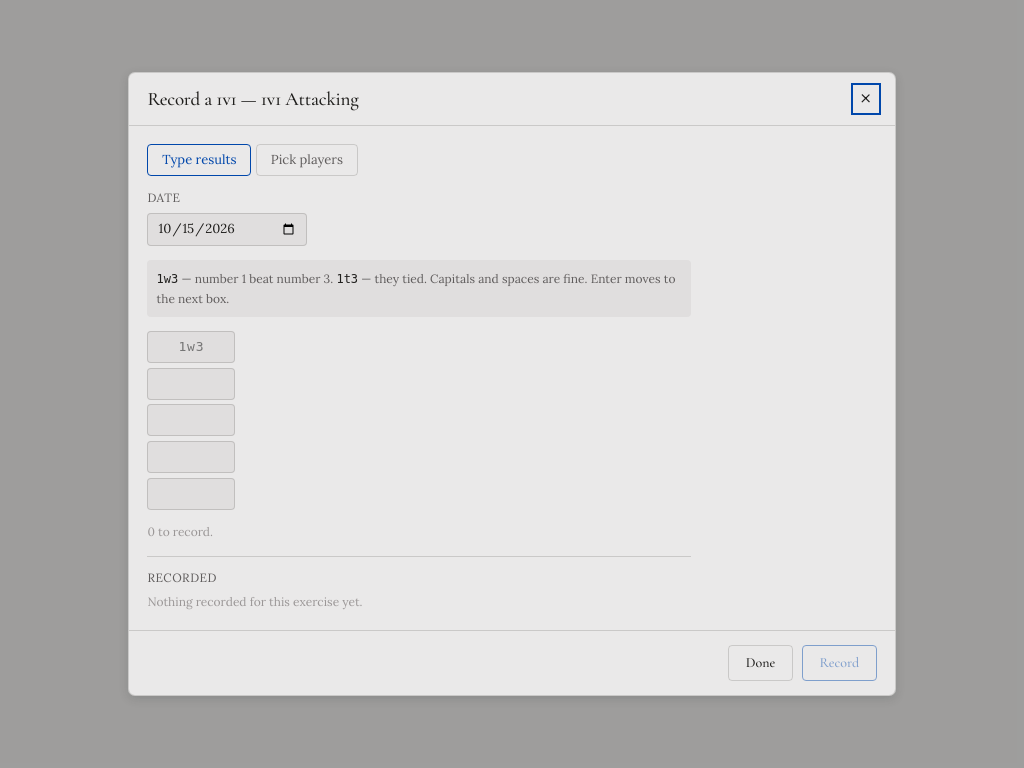
Test: the picker: choosing the pairing › will not record until both players and an outcome are chosen
Click the button "Pick players": (307, 160) [256, 144, 358, 176]
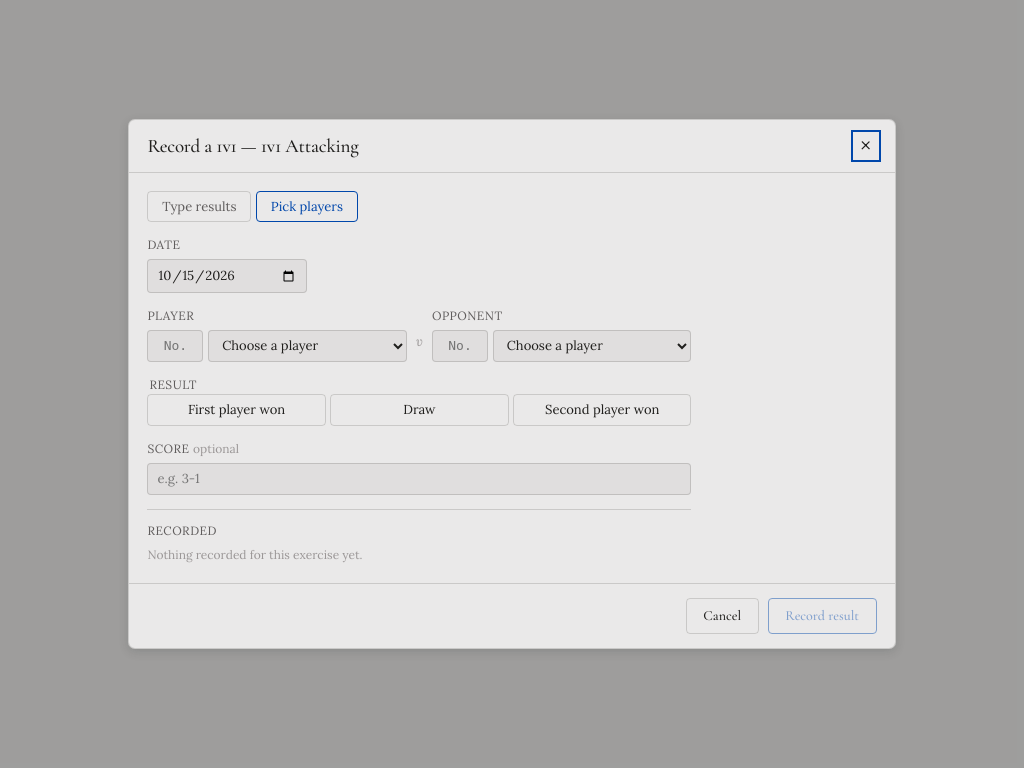
expect the button "Record result" is disabled: met, box [768, 598, 877, 634]
Select "(7) Cesar A." in the dropdown named "Player": (307, 346) [208, 330, 407, 362]
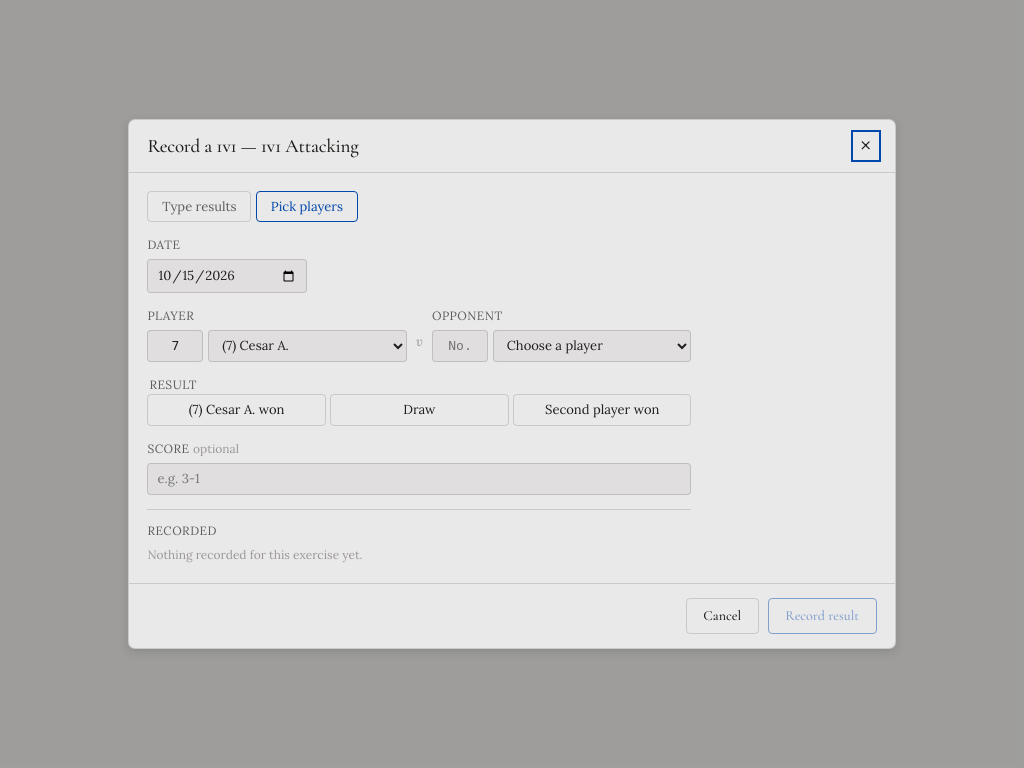
Select "(3) Caleb R." in the dropdown named "Opponent": (592, 346) [493, 330, 691, 362]
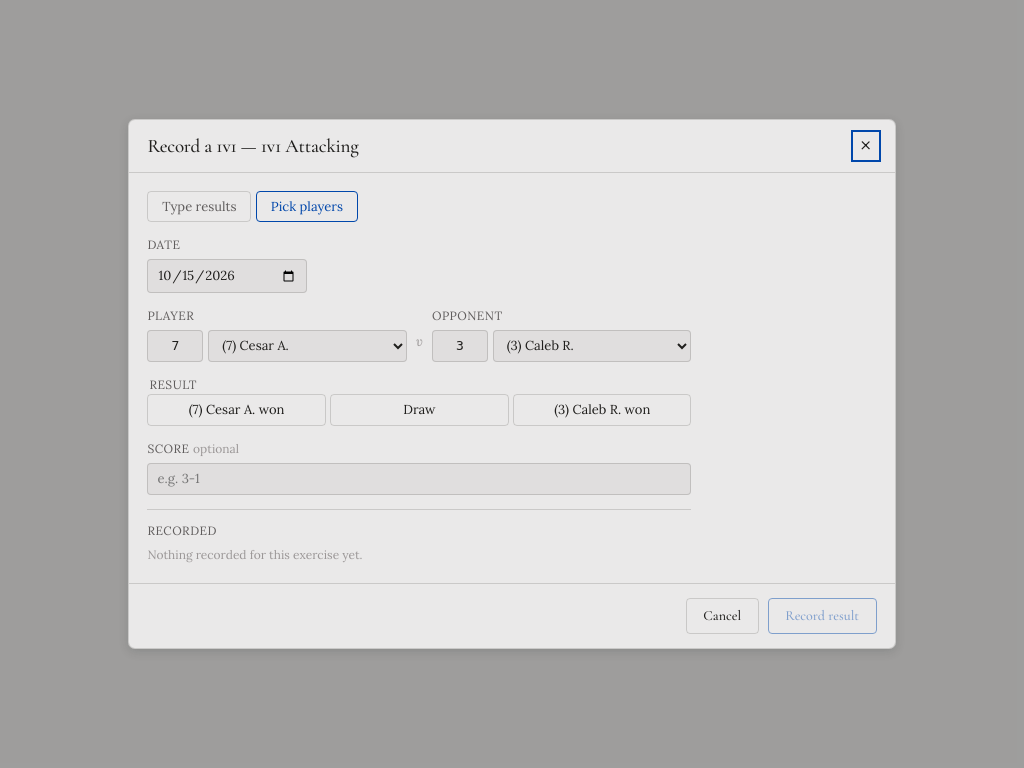
expect the button "Record result" is disabled: met, box [768, 598, 877, 634]
Click the button "(7) Cesar A. won": (237, 410) [147, 394, 326, 426]
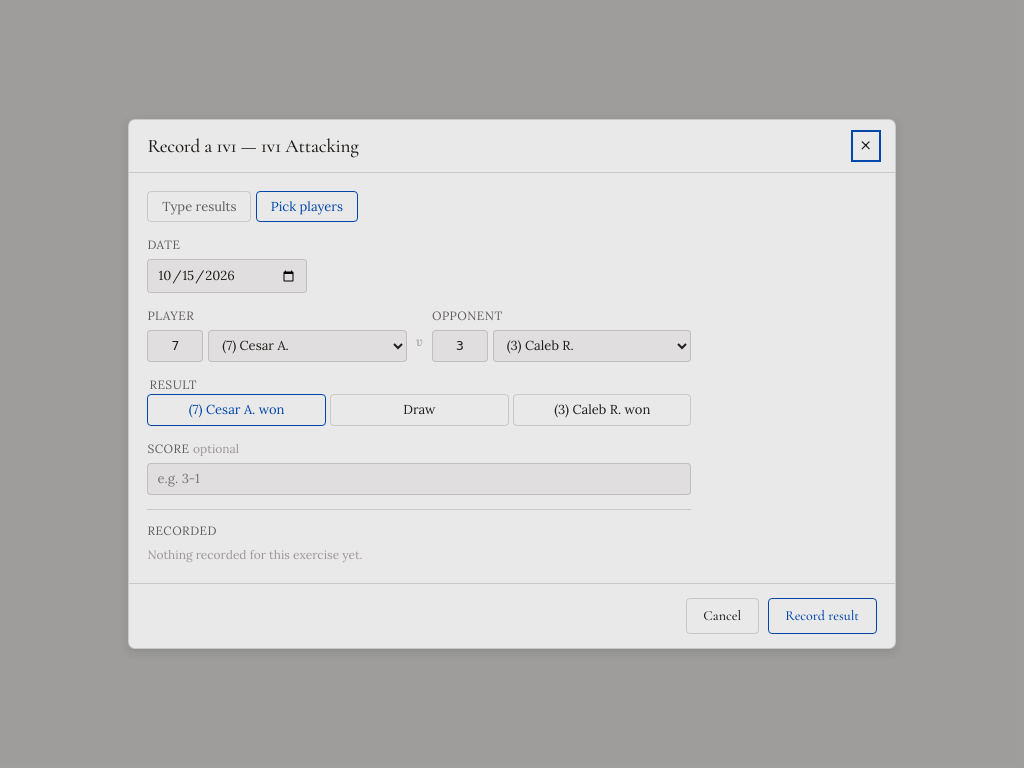
expect the button "Record result" is enabled: met, box [768, 598, 877, 634]
